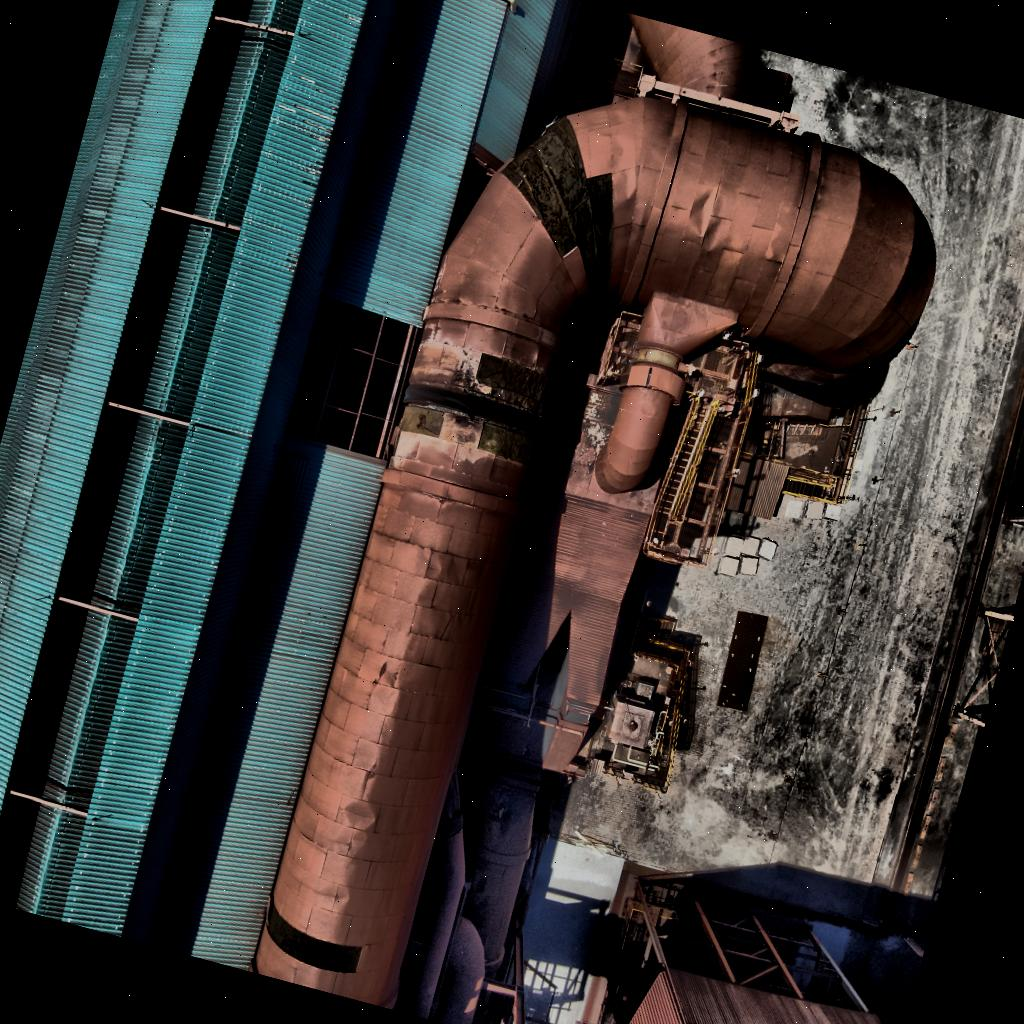Failures: (468, 88, 650, 302), (378, 316, 562, 494), (248, 884, 378, 984), (608, 347, 698, 418)
